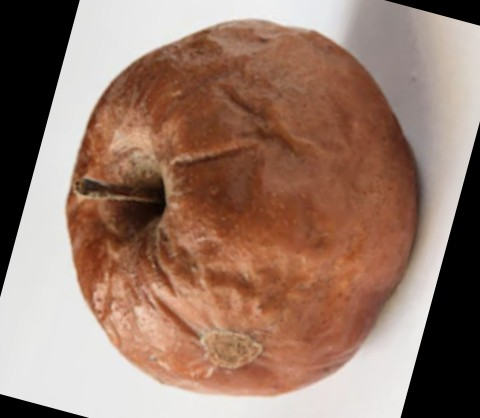rotten_apple: (67, 20, 421, 396)
